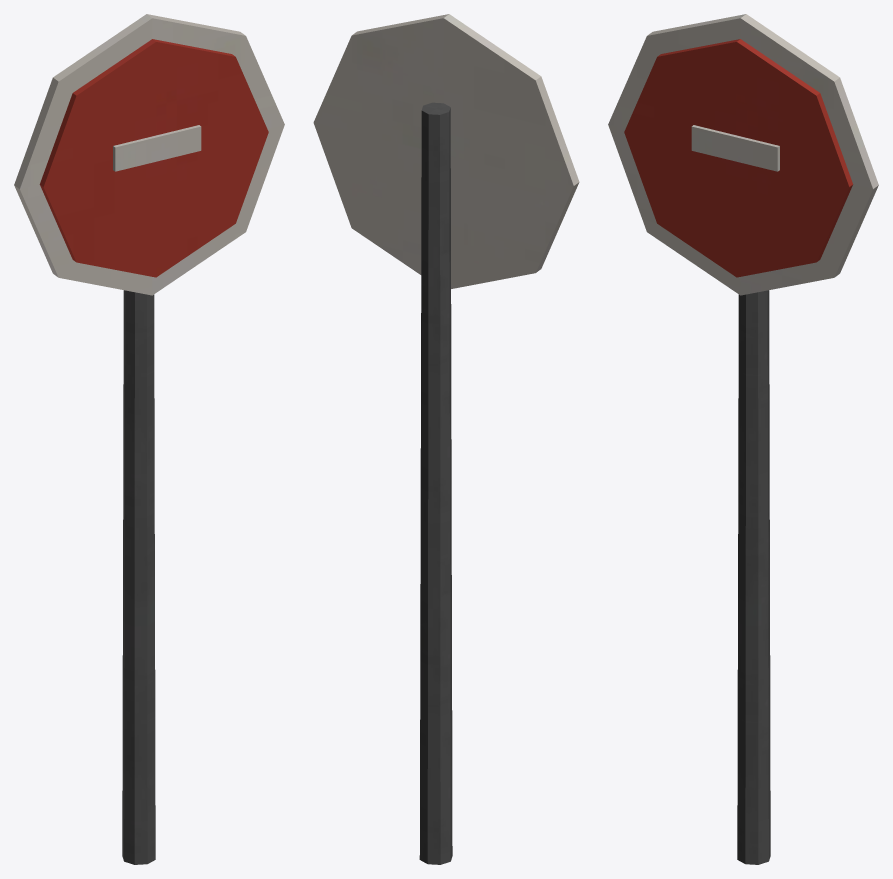
The model's file is stop_sign_01.glb.
3 views of the same model, side by side, from view 1: azimuth 30°, elevation 25°; view 2: azimuth 150°, elevation 25°; view 3: azimuth 330°, elevation 25° (orthographic).
Visible parts, largest first — view 1: stop_sign_01; view 2: stop_sign_01; view 3: stop_sign_01.
Boxes of the visible parts, x1=… form: stop_sign_01: x1=14, y1=14, x2=284, y2=864; stop_sign_01: x1=313, y1=14, x2=579, y2=864; stop_sign_01: x1=608, y1=14, x2=878, y2=864.
Size of the model in its own units: 0.8001 by 2.45 by 0.146.
Materials: 3 (3 with a texture image).
